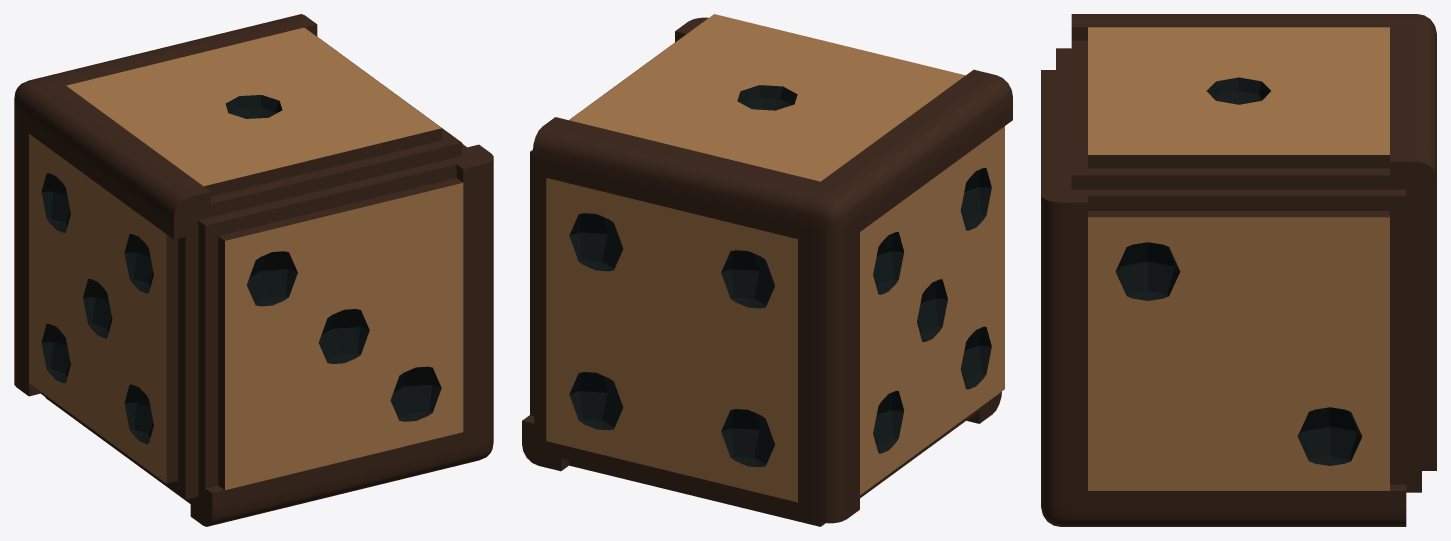
The model's file is bellows_d6.glb.
3 views of the same model, side by side, from view 1: azimuth 30°, elevation 25°; view 2: azimuth 150°, elevation 25°; view 3: azimuth 270°, elevation 25° (orthographic). The views are drawn at different scales.
Parts seen in each view (by area): view 1: BellowsD6; view 2: BellowsD6; view 3: BellowsD6.
Boxes of the visible parts, left/top/right/bottom form: BellowsD6: left=14, top=14, right=493, bottom=526; BellowsD6: left=522, top=14, right=1012, bottom=526; BellowsD6: left=1041, top=14, right=1436, bottom=526.
Size of the model in its own units: 0.08 by 0.08 by 0.08.
